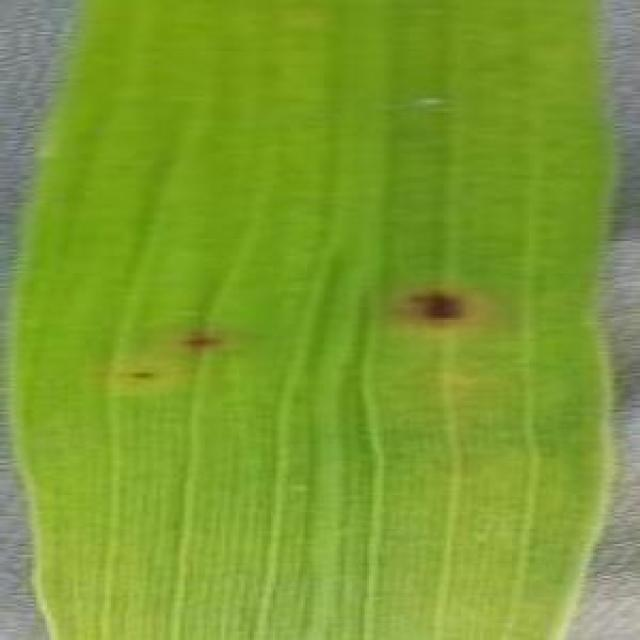Brown_Spot: (397, 278, 477, 342), (177, 322, 229, 363)
